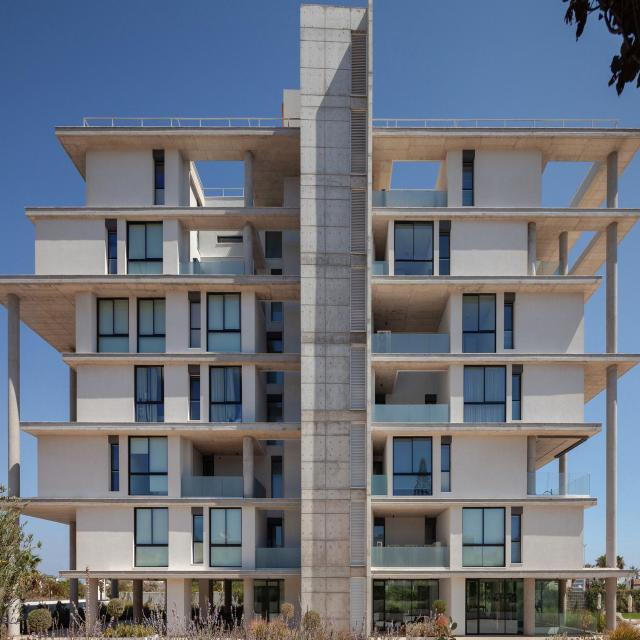door: (373, 580, 439, 632), (465, 581, 518, 634), (255, 581, 284, 624)
railing: (374, 117, 619, 127), (86, 117, 284, 127), (371, 400, 452, 421), (370, 548, 450, 569), (370, 332, 450, 352), (526, 474, 592, 495), (371, 189, 447, 207), (181, 475, 243, 497), (180, 259, 244, 275), (255, 549, 301, 567), (536, 258, 563, 275), (371, 474, 388, 496)
window: (393, 435, 433, 494), (466, 364, 506, 422), (464, 509, 504, 567), (130, 436, 168, 495), (462, 294, 498, 355), (394, 223, 434, 276), (126, 223, 163, 277), (136, 507, 168, 569), (211, 505, 241, 569), (97, 296, 129, 355), (134, 362, 165, 422), (211, 368, 241, 425), (210, 296, 241, 351), (138, 297, 166, 351), (188, 361, 200, 419), (189, 300, 203, 346), (510, 512, 522, 564), (462, 159, 474, 207), (511, 369, 521, 424), (505, 299, 516, 348), (441, 445, 452, 493), (193, 514, 203, 562), (272, 457, 283, 499), (267, 520, 283, 548), (155, 161, 165, 205), (513, 515, 522, 562), (440, 233, 450, 275), (107, 229, 116, 274), (112, 442, 120, 490), (268, 398, 284, 422), (424, 518, 436, 545), (373, 521, 384, 548), (202, 456, 213, 476), (217, 236, 243, 243), (273, 301, 281, 322), (271, 339, 282, 353), (373, 462, 382, 474)
